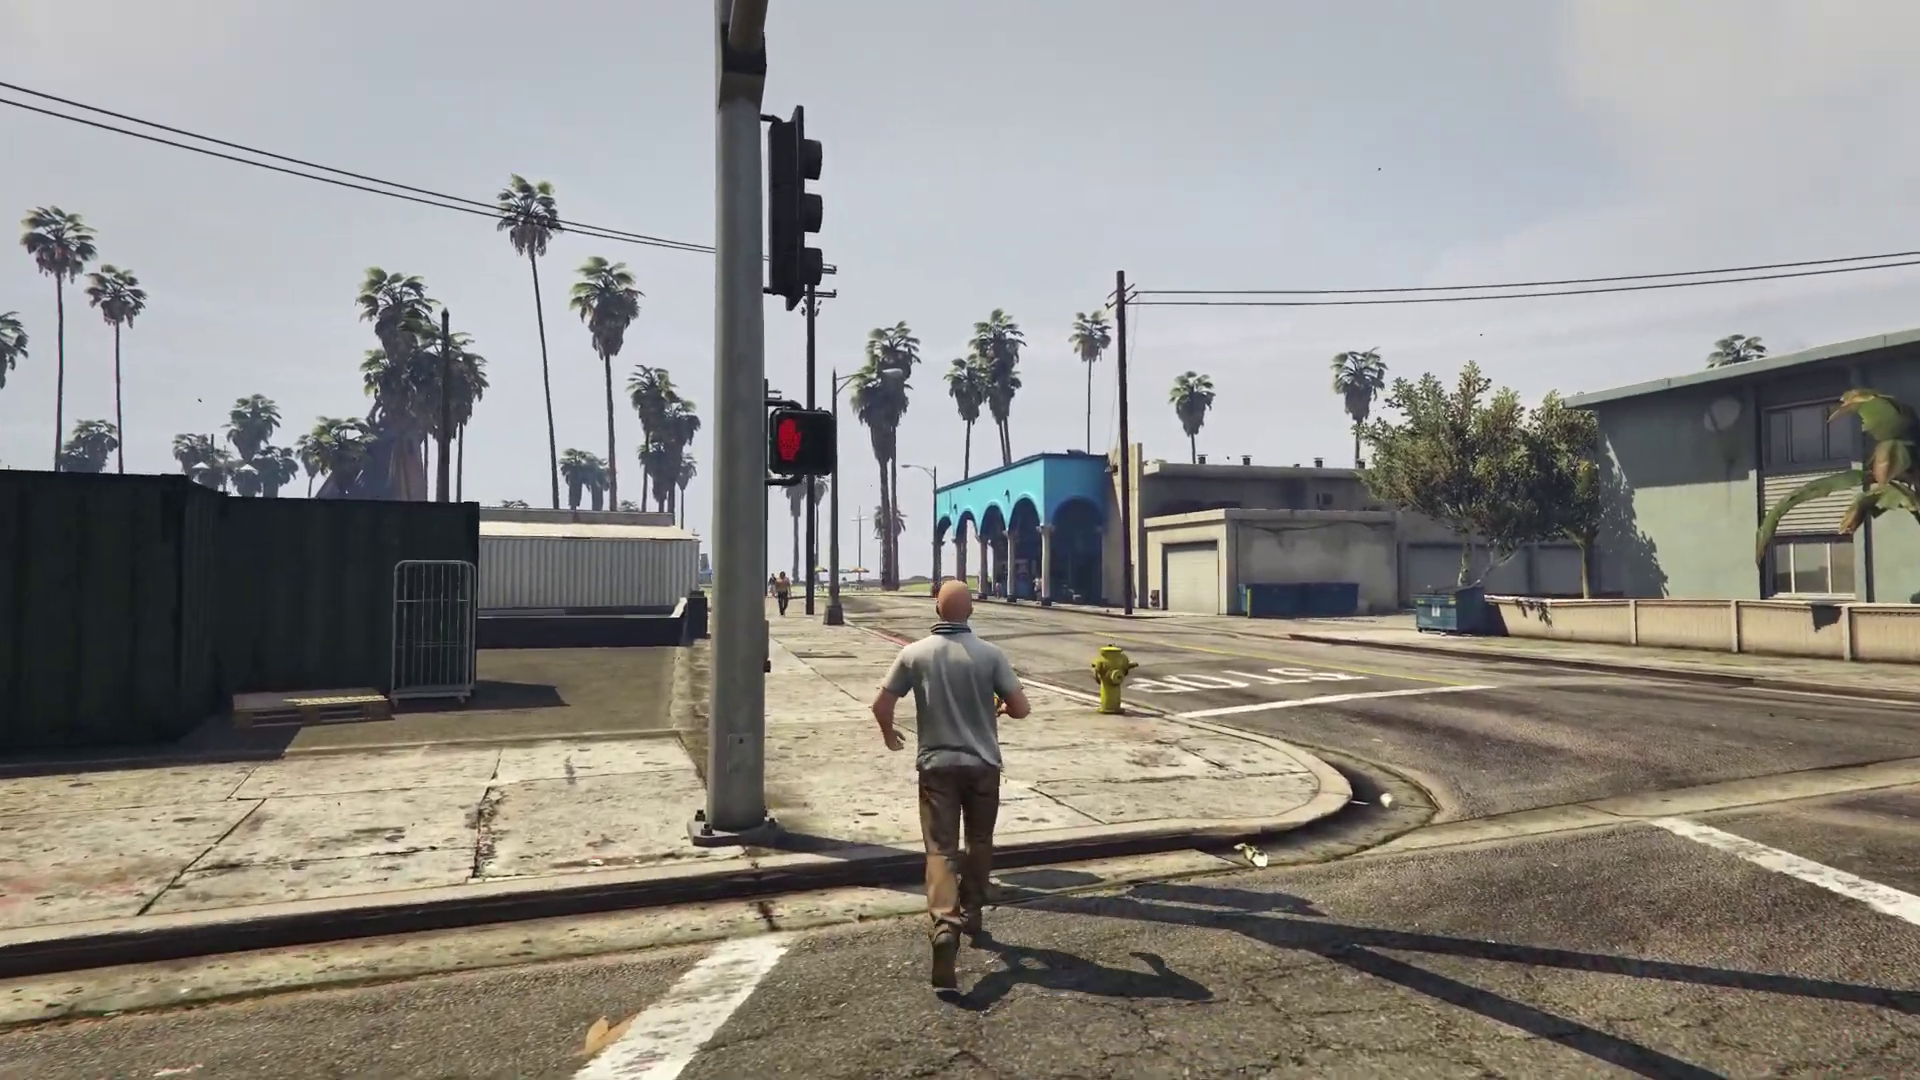person: (870, 578, 1033, 993), (776, 571, 792, 616), (767, 574, 779, 597)
traffic light: (770, 107, 822, 311), (774, 396, 841, 487)
